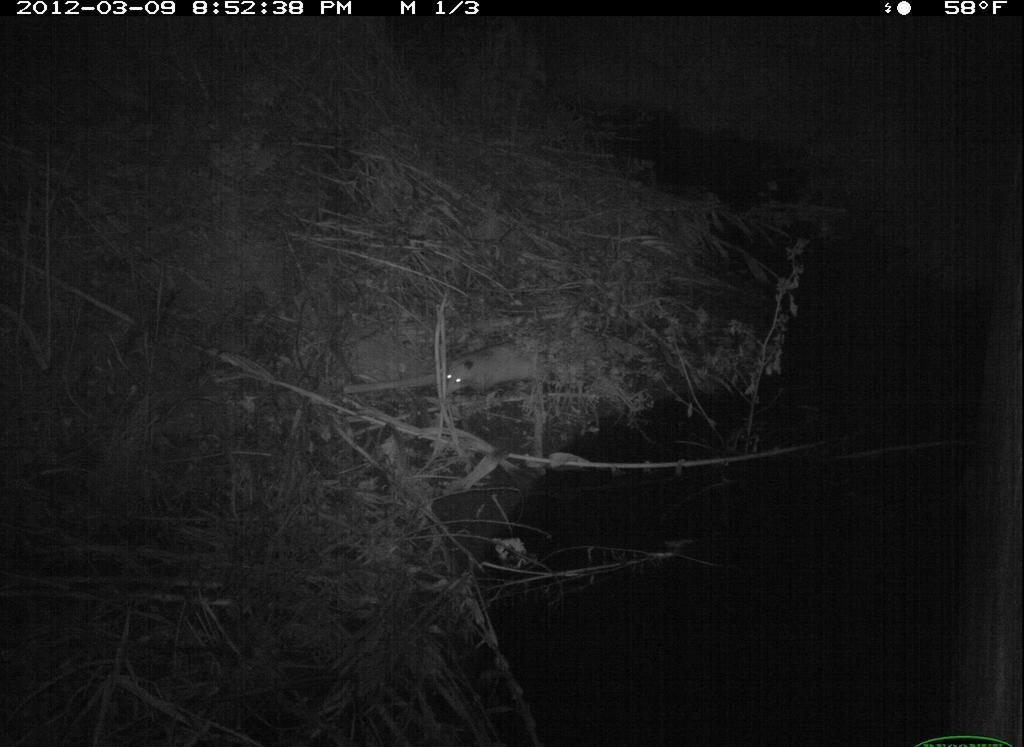opossum: (440, 331, 562, 407)
